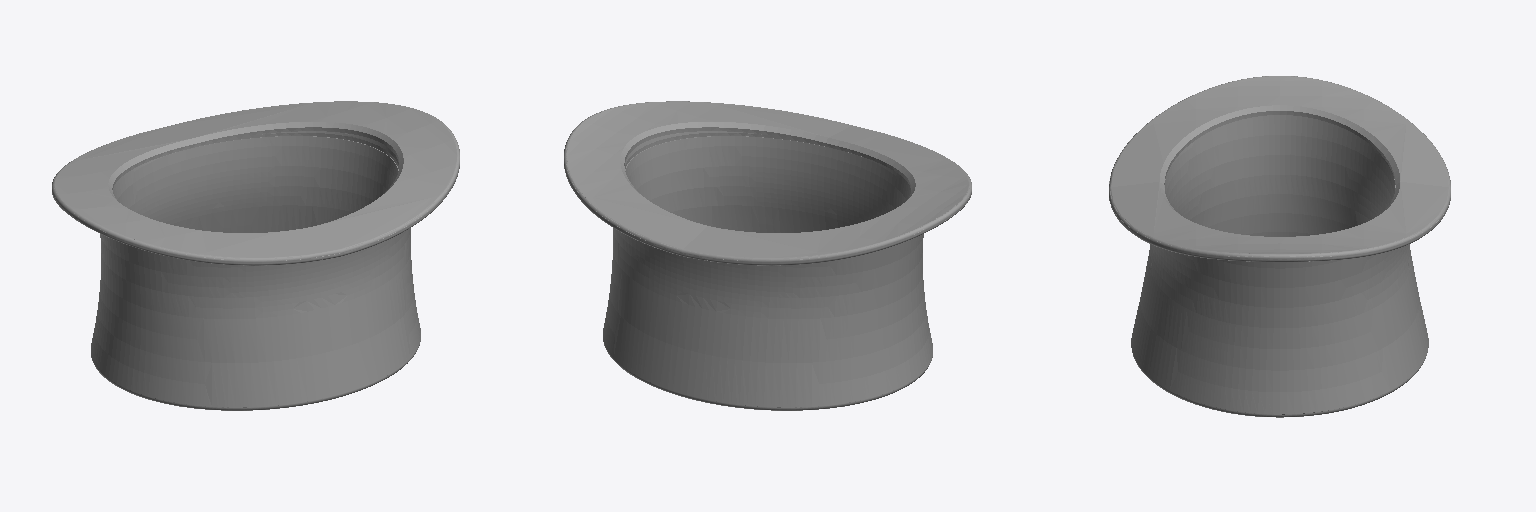
Rendered from hat.obj.
3 views of the same model, side by side, from view 1: azimuth 30°, elevation 25°; view 2: azimuth 150°, elevation 25°; view 3: azimuth 270°, elevation 25° (orthographic).
Parts seen in each view (by area): view 1: Tophatr2; view 2: Tophatr2; view 3: Tophatr2.
Part boxes in pixels (bbox=[...]): Tophatr2: bbox=[52, 101, 459, 410]; Tophatr2: bbox=[564, 101, 971, 410]; Tophatr2: bbox=[1109, 76, 1450, 417].
Bounding box in the file's own units: 5 × 2.34 × 4.